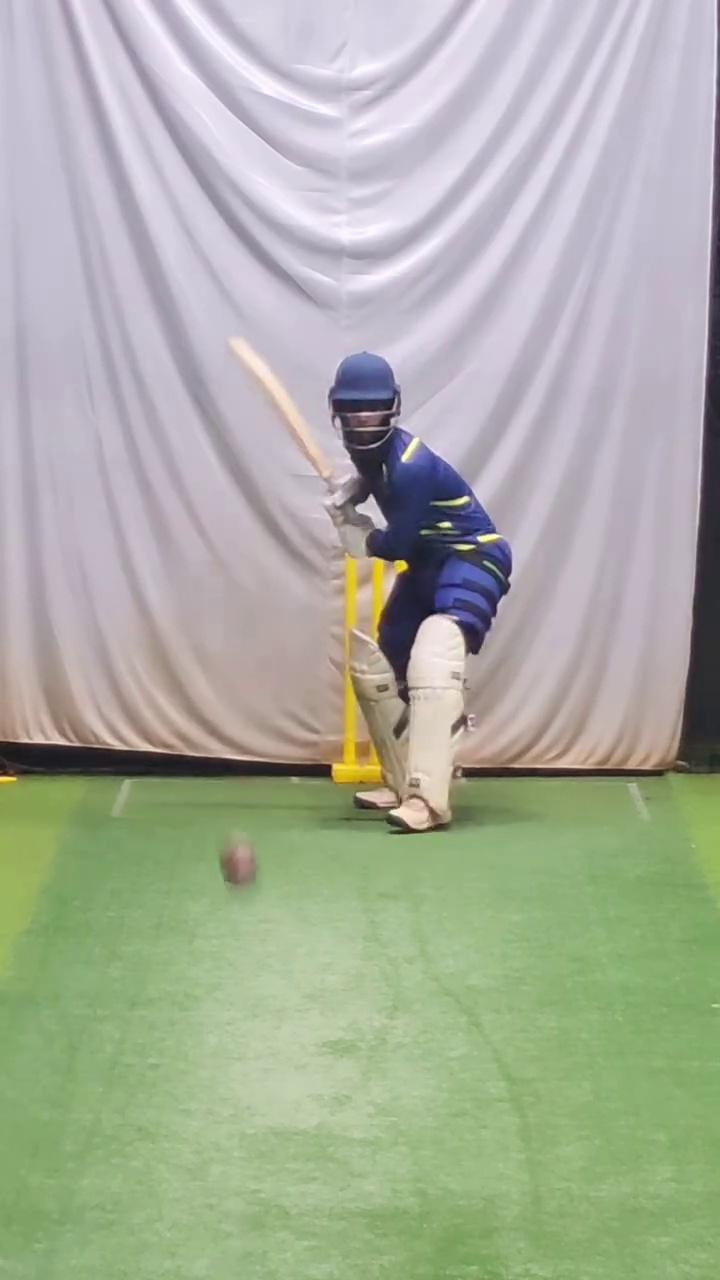bat: (218, 326, 337, 488)
